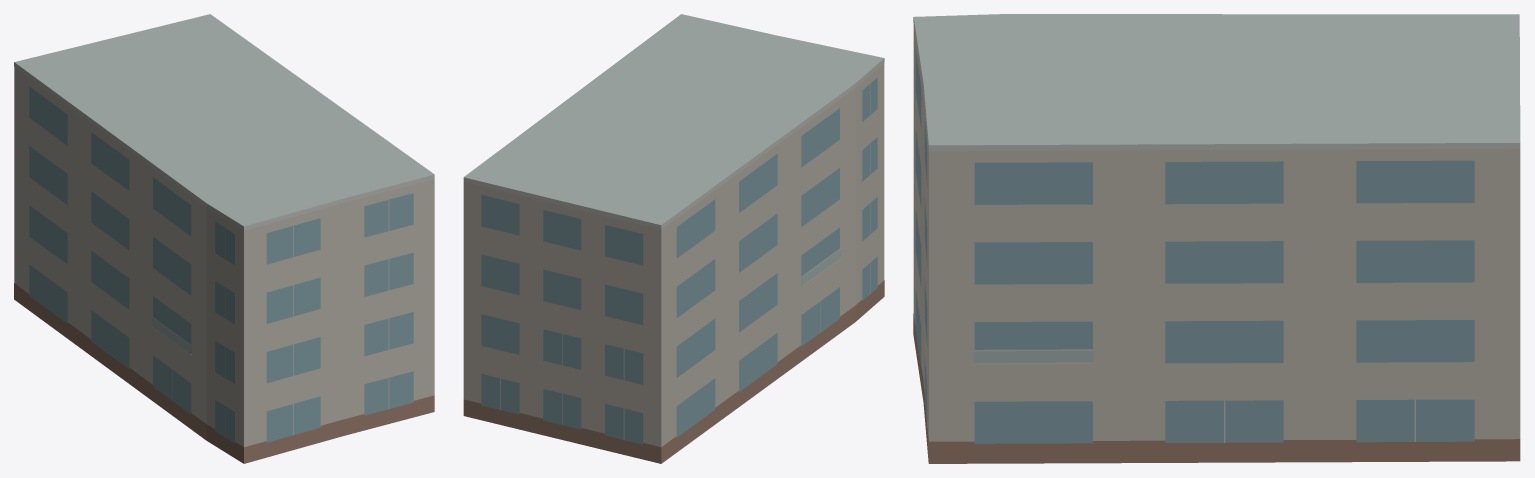
File: survey-upis-32747314.glb
3 views of the same model, side by side, from view 1: azimuth 30°, elevation 25°; view 2: azimuth 150°, elevation 25°; view 3: azimuth 270°, elevation 25° (orthographic). The views are drawn at different scales.
Visible parts, largest first — view 1: survey-upis-32747314.tmp; view 2: survey-upis-32747314.tmp; view 3: survey-upis-32747314.tmp.
Boxes of the visible parts, x1=… form: survey-upis-32747314.tmp: x1=14, y1=14, x2=434, y2=463; survey-upis-32747314.tmp: x1=463, y1=14, x2=884, y2=463; survey-upis-32747314.tmp: x1=913, y1=14, x2=1520, y2=463.
Size of the model in its own units: 11.6 by 13.05 by 22.54.
